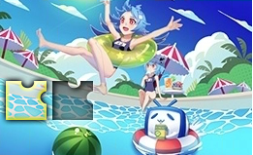gap: (52, 81, 93, 121)
